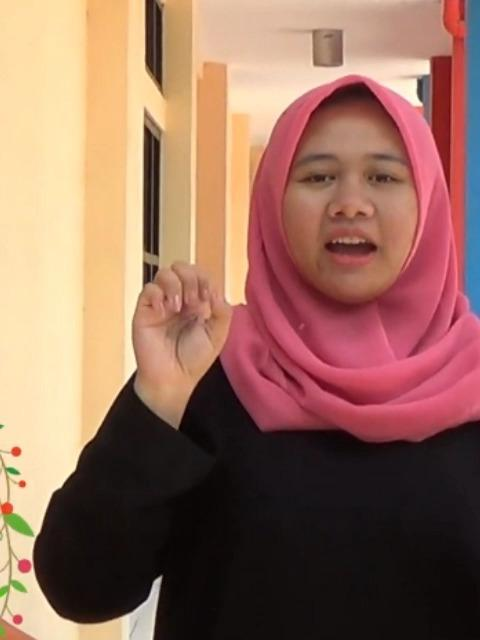S: (128, 256, 246, 384)
